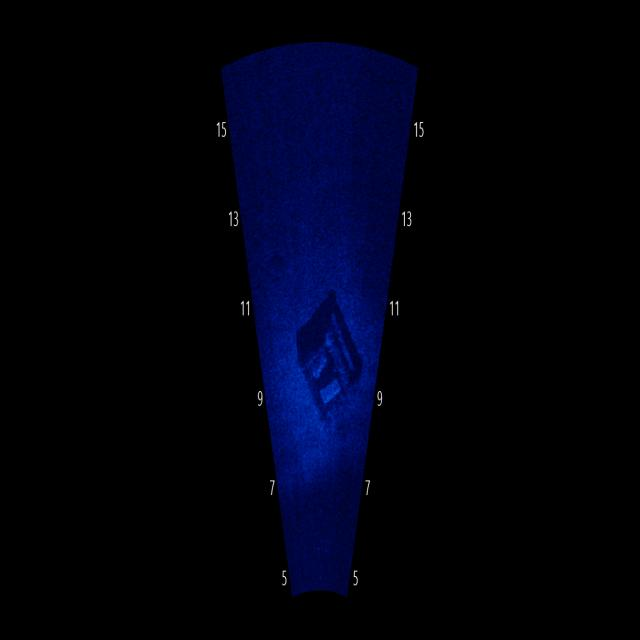square: (292, 290, 364, 444)
